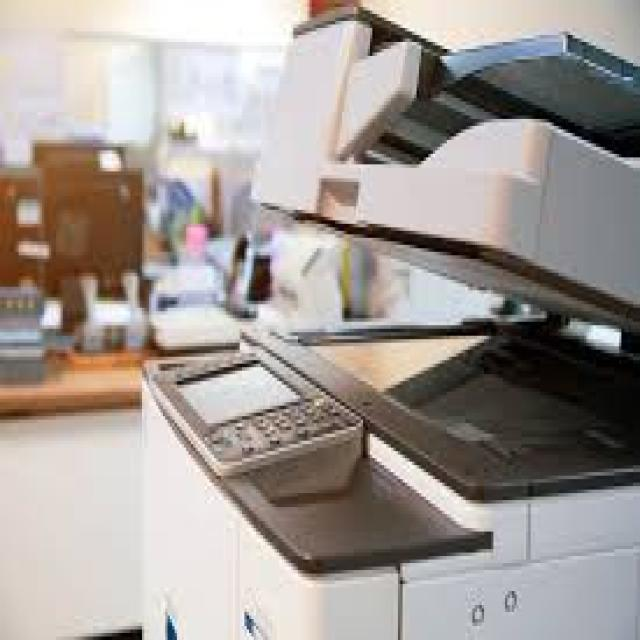printer: (142, 0, 640, 640)
